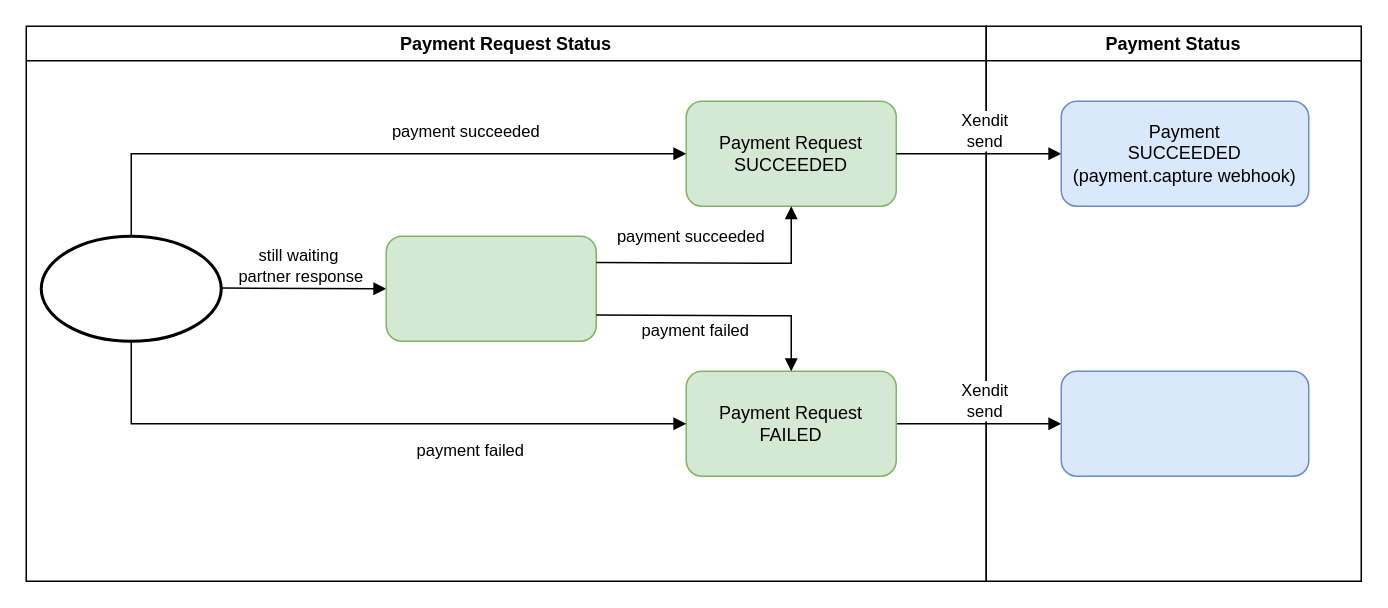
This 1388x608 diagram has some shape labels left out. Here are the shapes that lost their labels. From the top down, the centre of each, then its label:
At point 130,288: "Create Payment Request".
At point 490,288: "Payment Request PENDING".
At point 1184,423: "Payment FAILED (payment.failure webhook)".
